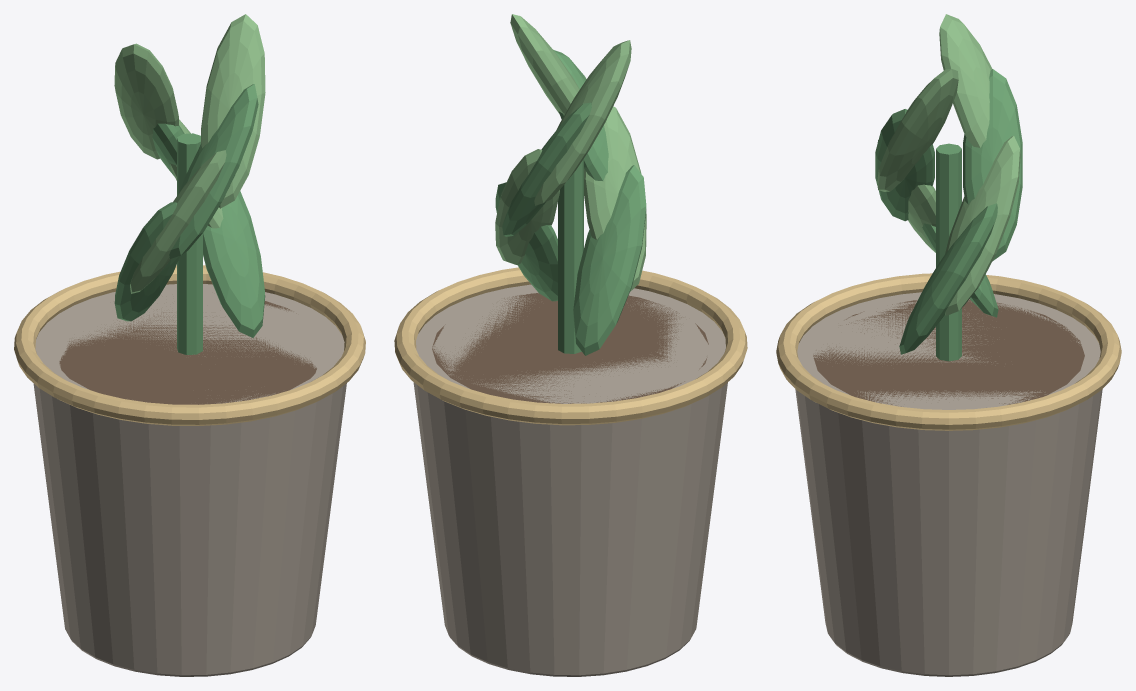
File: planter.glb
The picture shows the model from 3 angles, left to right: view 1: azimuth 30°, elevation 25°; view 2: azimuth 150°, elevation 25°; view 3: azimuth 270°, elevation 25°; orthographic projection. The views are drawn at different scales.
Visible parts, largest first — view 1: Pot, Soil, PotLip, Leaf_0, Leaf_7, Leaf_3, Leaf_6, Stem, Leaf_5, Leaf_4, Leaf_2; view 2: Pot, PotLip, Soil, Leaf_4, Leaf_3, Stem, Leaf_5, Leaf_2, Leaf_7, Leaf_1, Leaf_0, Leaf_6; view 3: Pot, Soil, PotLip, Leaf_0, Leaf_1, Leaf_7, Leaf_3, Leaf_2, Stem, Leaf_6, Leaf_5, Leaf_4.
Boxes of the visible parts, x1=… form: Pot: x1=33, y1=284, x2=346, y2=676; Soil: x1=59, y1=301, x2=316, y2=404; PotLip: x1=14, y1=265, x2=365, y2=425; Leaf_0: x1=203, y1=191, x2=265, y2=337; Leaf_7: x1=201, y1=14, x2=265, y2=208; Leaf_3: x1=114, y1=43, x2=178, y2=159; Leaf_6: x1=169, y1=84, x2=258, y2=258; Stem: x1=177, y1=133, x2=202, y2=354; Leaf_5: x1=130, y1=150, x2=226, y2=293; Leaf_4: x1=114, y1=202, x2=179, y2=321; Leaf_2: x1=152, y1=123, x2=184, y2=176; Pot: x1=413, y1=284, x2=727, y2=676; PotLip: x1=394, y1=267, x2=747, y2=425; Soil: x1=432, y1=293, x2=708, y2=403; Leaf_4: x1=573, y1=165, x2=646, y2=355; Leaf_3: x1=534, y1=40, x2=631, y2=205; Stem: x1=558, y1=159, x2=583, y2=353; Leaf_5: x1=584, y1=106, x2=646, y2=291; Leaf_2: x1=502, y1=102, x2=591, y2=236; Leaf_7: x1=510, y1=14, x2=579, y2=114; Leaf_1: x1=495, y1=149, x2=559, y2=264; Leaf_0: x1=495, y1=182, x2=557, y2=301; Leaf_6: x1=553, y1=50, x2=608, y2=180; Pot: x1=795, y1=292, x2=1102, y2=676; Soil: x1=813, y1=299, x2=1084, y2=406; PotLip: x1=776, y1=273, x2=1121, y2=430; Leaf_0: x1=899, y1=203, x2=997, y2=354; Leaf_1: x1=945, y1=135, x2=1020, y2=315; Leaf_7: x1=877, y1=69, x2=958, y2=191; Leaf_3: x1=939, y1=14, x2=992, y2=147; Leaf_2: x1=963, y1=69, x2=1022, y2=260; Stem: x1=936, y1=143, x2=961, y2=361; Leaf_6: x1=875, y1=109, x2=934, y2=221; Leaf_5: x1=877, y1=140, x2=935, y2=252; Leaf_4: x1=922, y1=223, x2=998, y2=317.
Size of the model in its own units: 0.394 by 0.7354 by 0.394.
